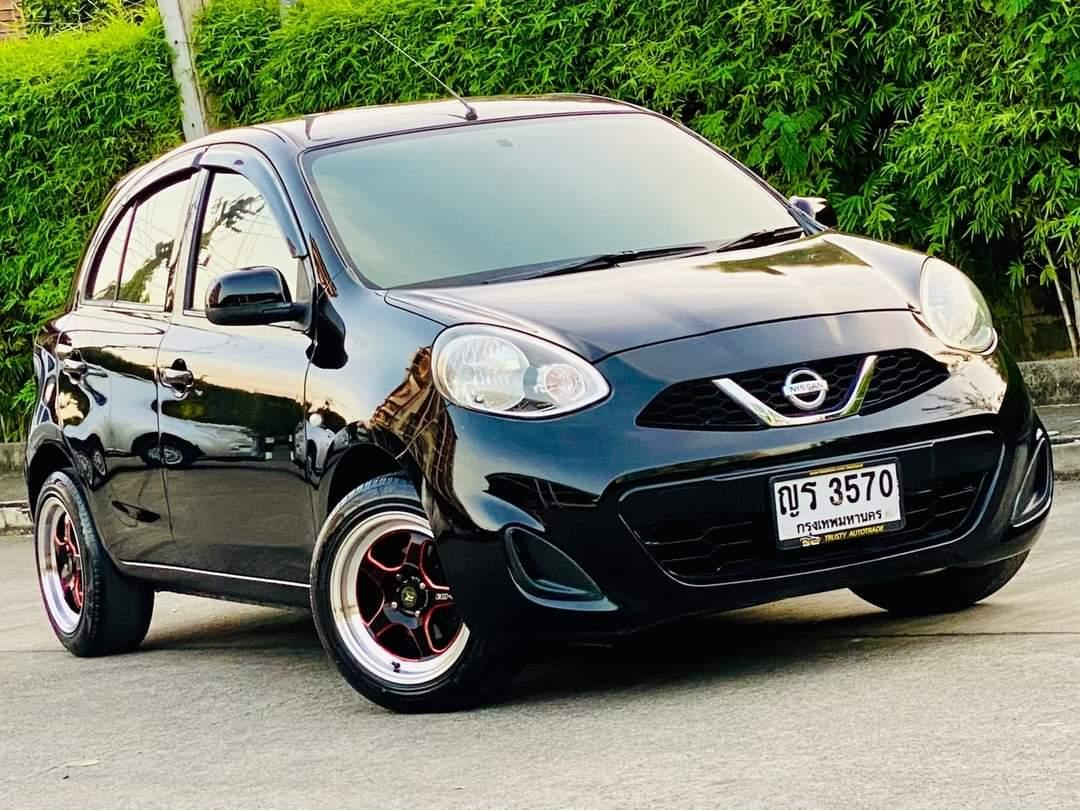license-plate: (767, 447, 905, 558)
